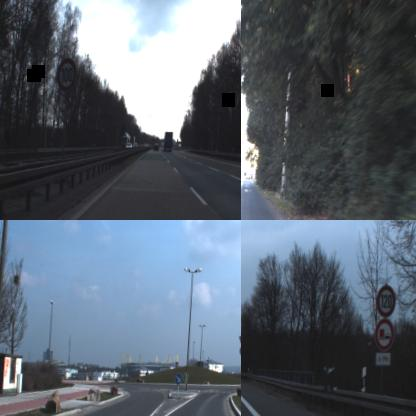give way: (238, 334, 241, 347)
keep right: (174, 372, 182, 385)
no overtaking: (374, 317, 396, 352)
roundabout: (239, 345, 241, 356)
speed limit 100: (56, 56, 78, 93)
speed limit 120: (375, 284, 397, 318)
